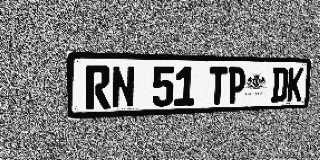1: (174, 66, 195, 106)
5: (152, 66, 174, 107)
D: (271, 67, 289, 102)
K: (287, 68, 304, 102)
N: (111, 66, 135, 109)
P: (227, 67, 246, 104)
R: (85, 65, 110, 110)
T: (208, 67, 228, 105)
